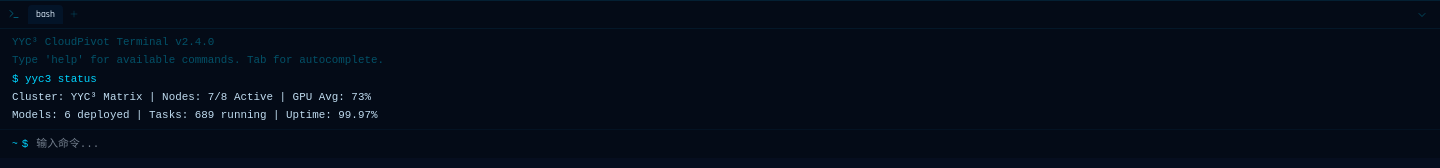
Test: IDETerminal › 命令执行 › clear 应清空输出
Type "clear" into the field with placeholder "输入命令...". click: (732, 144)
box: [36,136,1428,152]
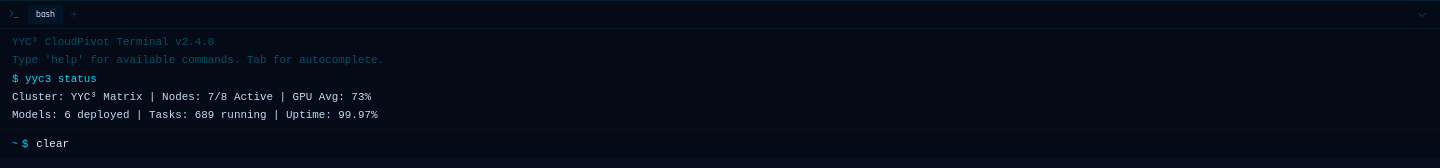
Press Enter in the field with placeholder "输入命令...", box [36,136,1428,152]
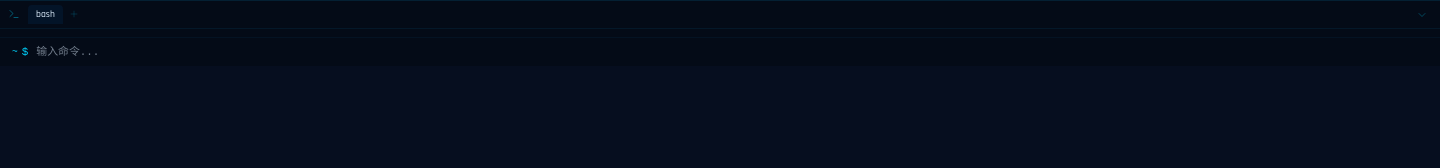
Result: the text "YYC³ CloudPivot Terminal v2.4.0" is gone
